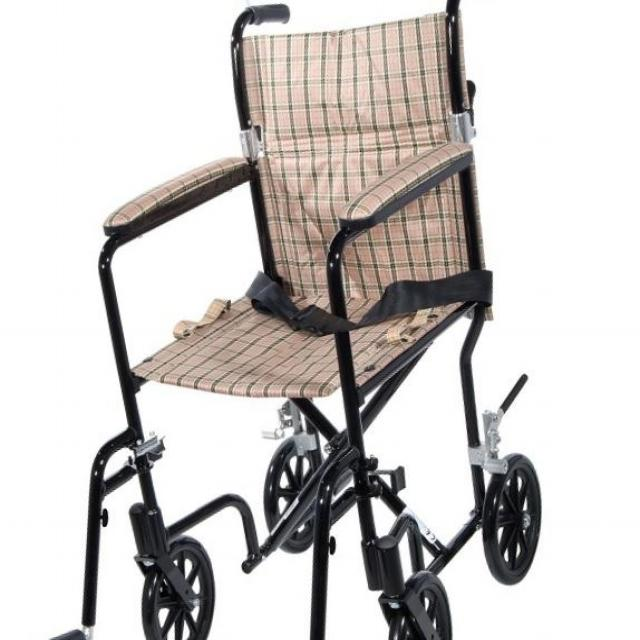wheelchair: (36, 0, 568, 640)
